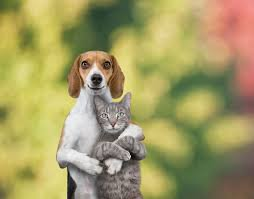cat: (90, 92, 151, 199)
dog: (59, 44, 127, 104)
